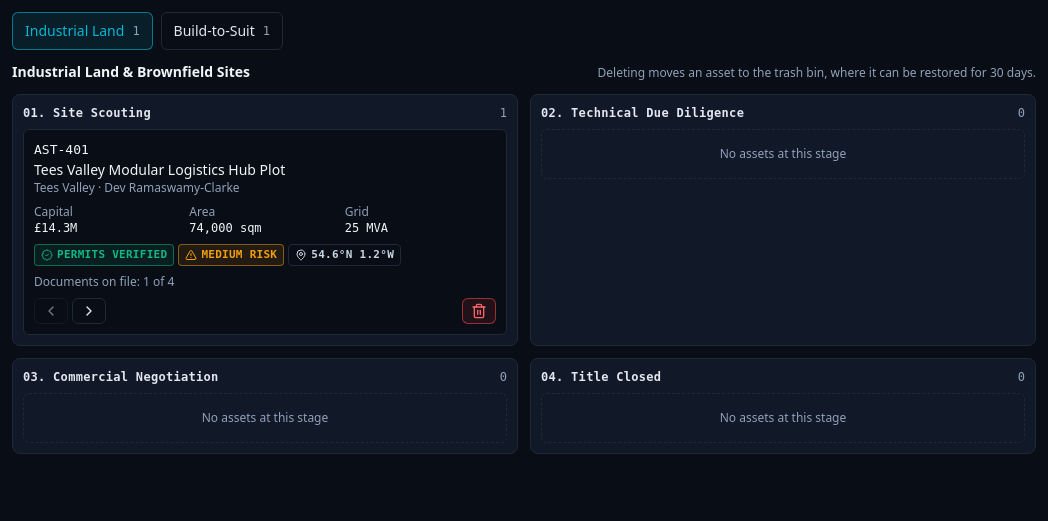
Scenario: KanbanBoard › shows the reason when the server refuses a move
Click the button named "Move AST-401 forward to 02. Technical Due Diligence": [89, 311] box [72,298,106,324]
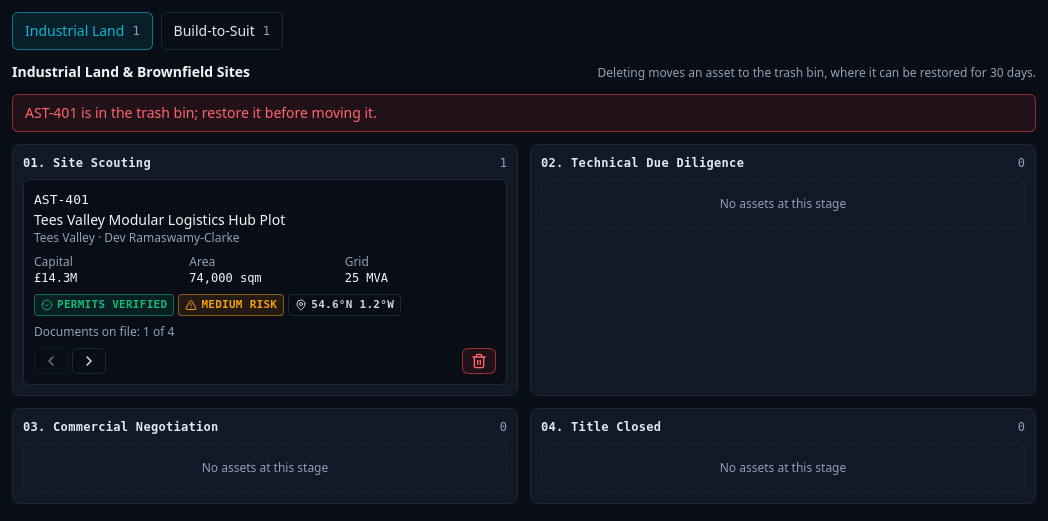
Check: the message reads "AST-401 is in the trash bin; restore it before moving it.", box [25,103,377,122]
